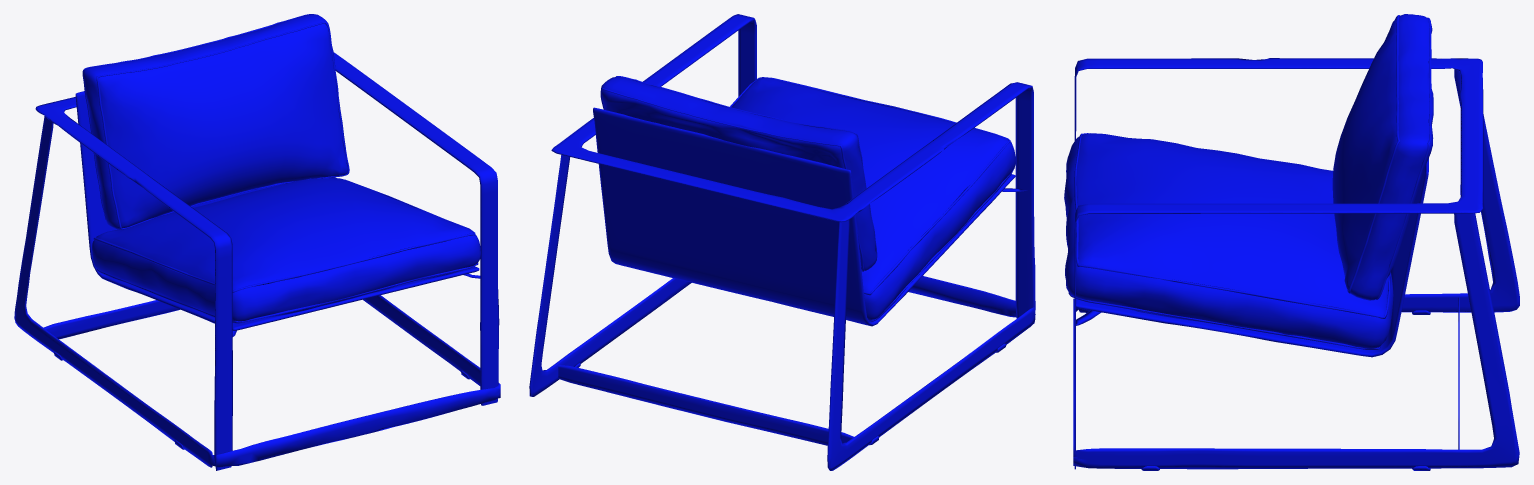
Rendered from SteelArmChair_low.fbx.
3 renders of one model, left to right at view 1: azimuth 30°, elevation 25°; view 2: azimuth 150°, elevation 25°; view 3: azimuth 270°, elevation 25°, orthographic. The views are drawn at different scales.
Parts seen in each view (by area): view 1: Back_low, Steel_low, Bottom_low, Bottom1_low, Back1_low; view 2: Steel_low, Bottom_low, Back_low, Bottom1_low, Back1_low; view 3: Bottom_low, Steel_low, Back_low, Bottom1_low, Back1_low.
Boxes of the visible parts, bbox=[...] form: Back_low: bbox=[82, 14, 347, 229]; Steel_low: bbox=[14, 52, 500, 470]; Bottom_low: bbox=[92, 177, 480, 323]; Bottom1_low: bbox=[93, 182, 478, 322]; Back1_low: bbox=[82, 14, 349, 229]; Steel_low: bbox=[529, 14, 1035, 470]; Bottom_low: bbox=[731, 78, 1015, 320]; Back_low: bbox=[601, 76, 876, 270]; Bottom1_low: bbox=[730, 77, 1014, 321]; Back1_low: bbox=[600, 76, 877, 271]; Bottom_low: bbox=[1064, 133, 1393, 348]; Steel_low: bbox=[1073, 58, 1519, 470]; Back_low: bbox=[1332, 14, 1433, 300]; Bottom1_low: bbox=[1068, 133, 1390, 349]; Back1_low: bbox=[1347, 15, 1431, 299].
Bounding box in the file's own units: 765 × 719 × 937.
